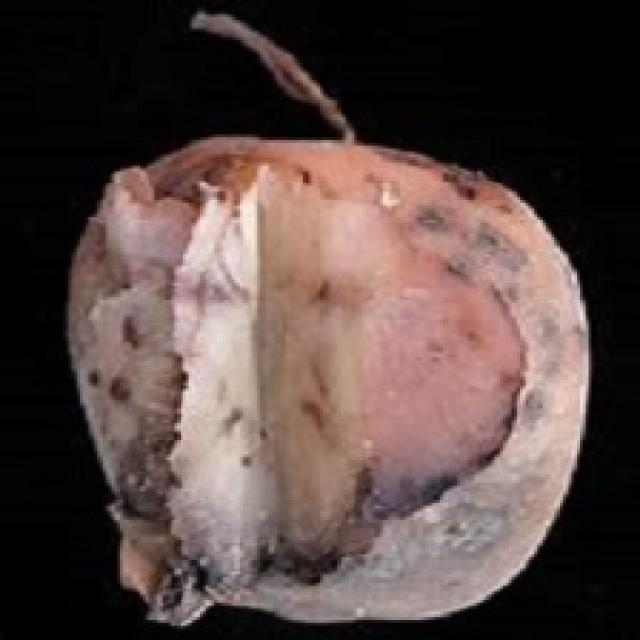pink_rot: (50, 124, 607, 640)
